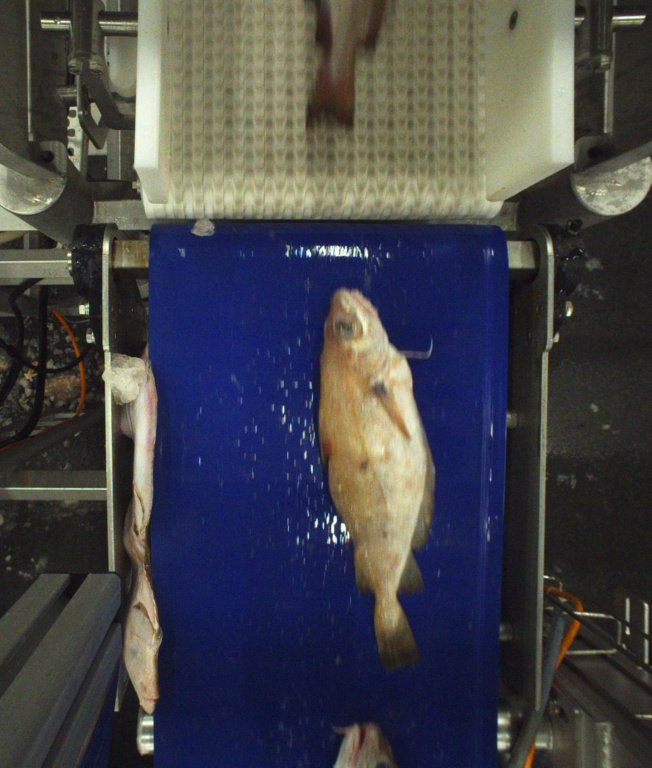BIB: (324, 718, 406, 768)
